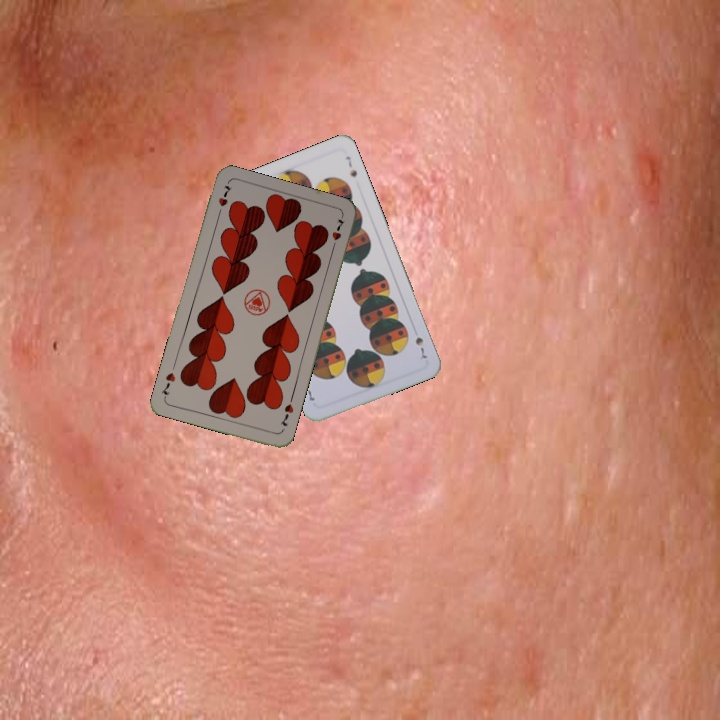H7: (213, 180, 234, 219), (276, 400, 296, 429)
S7: (411, 333, 430, 363)
